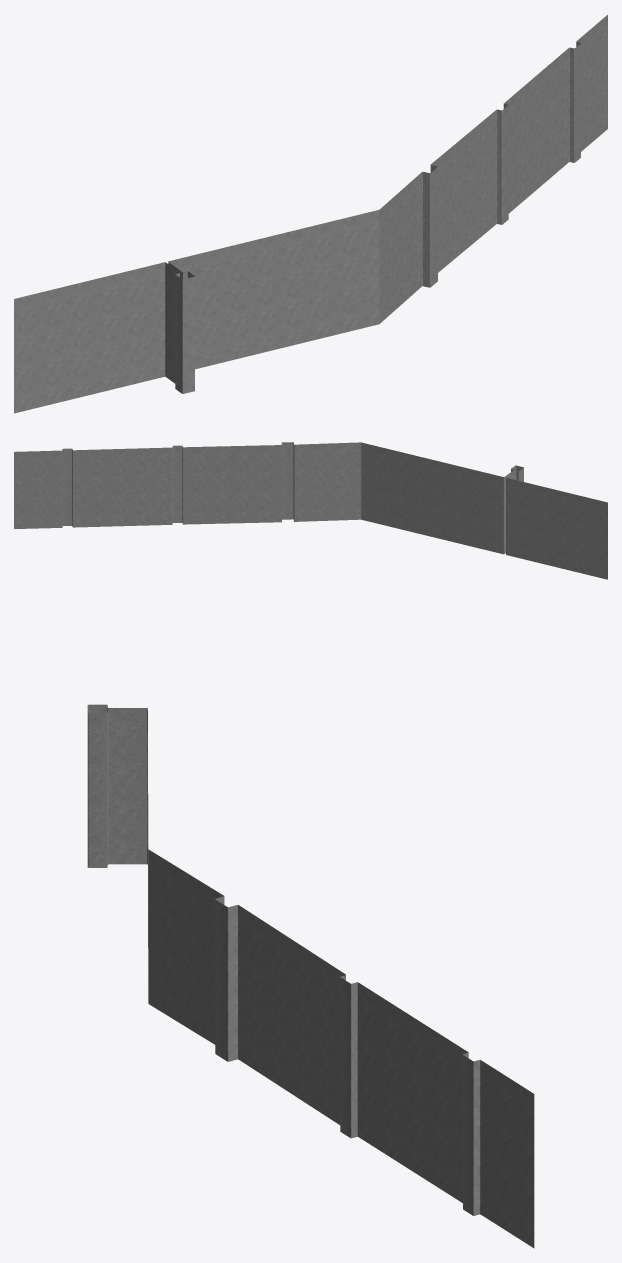
File: WPLWall05.fbx
3 views of the same model, one above another, from view 1: azimuth 30°, elevation 25°; view 2: azimuth 150°, elevation 25°; view 3: azimuth 270°, elevation 25° (orthographic). The views are drawn at different scales.
Parts seen in each view (by area): view 1: Wall 05.Shape; view 2: Wall 05.Shape; view 3: Wall 05.Shape.
Boxes of the visible parts, box(x1,y1,x2,y2) form: Wall 05.Shape: box(14, 15, 607, 413); Wall 05.Shape: box(14, 442, 607, 579); Wall 05.Shape: box(87, 704, 534, 1248).
Size of the model in its own units: 4285 by 636 by 1666.
1 material, 1 textured.
